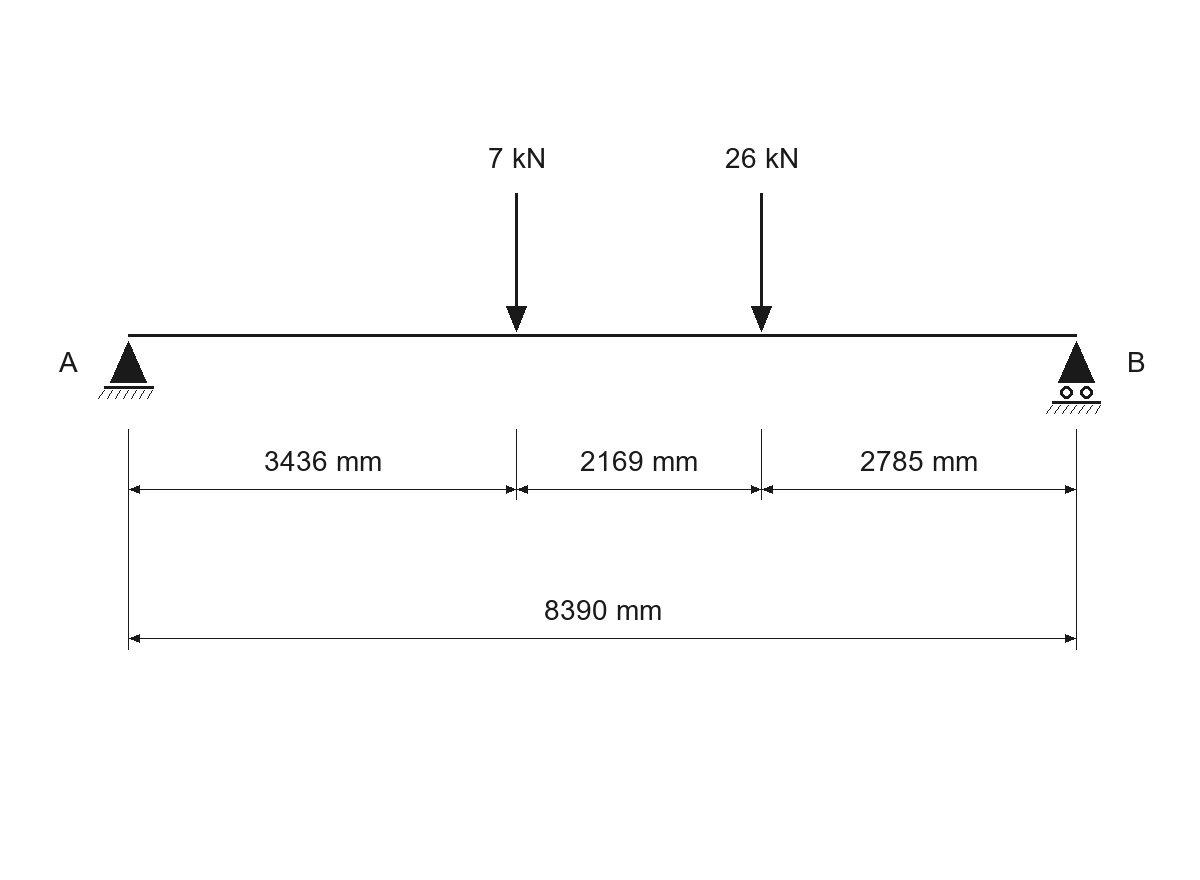pin_support: (98, 341, 154, 399)
point_load: (506, 193, 527, 332), (751, 193, 772, 332)
roller_support: (1046, 341, 1101, 414)
